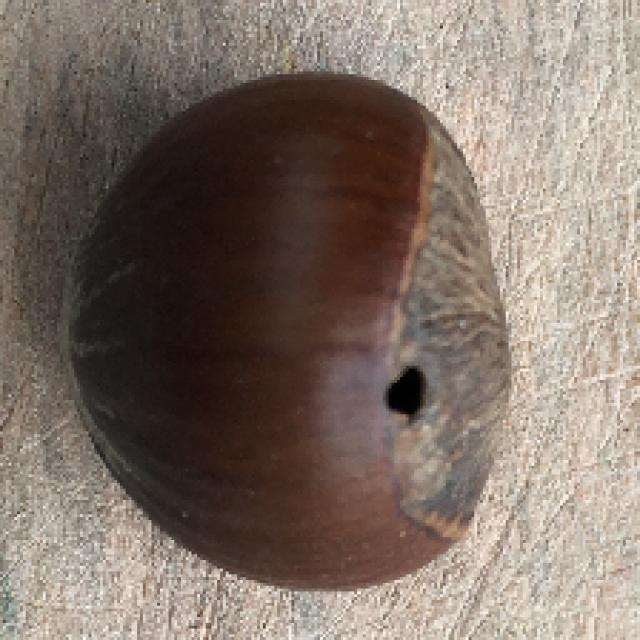damagedHazelnut: (68, 66, 523, 600)
